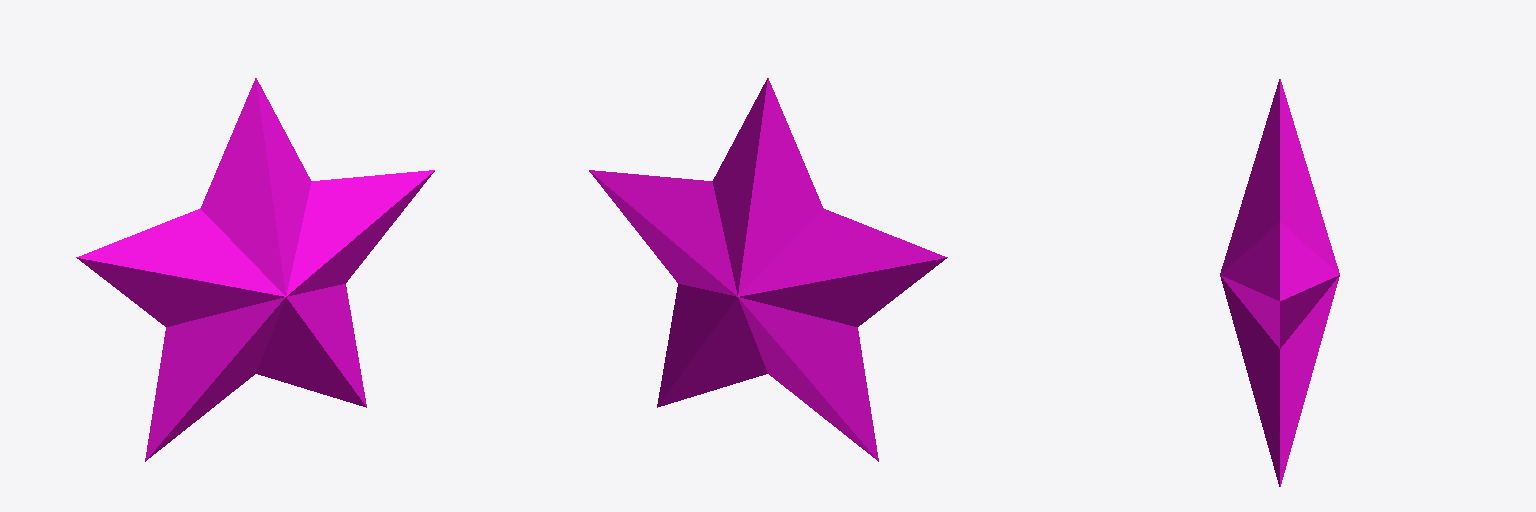
The model's file is Star_P.obj.
3 views of the same model, side by side, from view 1: azimuth 30°, elevation 25°; view 2: azimuth 150°, elevation 25°; view 3: azimuth 270°, elevation 25° (orthographic).
Parts seen in each view (by area): view 1: Star_P; view 2: Star_P; view 3: Star_P.
Part boxes in pixels (x1,y1,x2,y2): Star_P: (76,78,434,461); Star_P: (589,78,947,461); Star_P: (1220,79,1339,486).
Size of the model in its own units: 19.02 by 18.09 by 5.51.